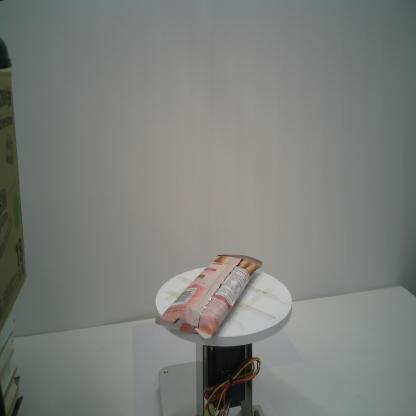Dessert: (154, 253, 263, 344)
